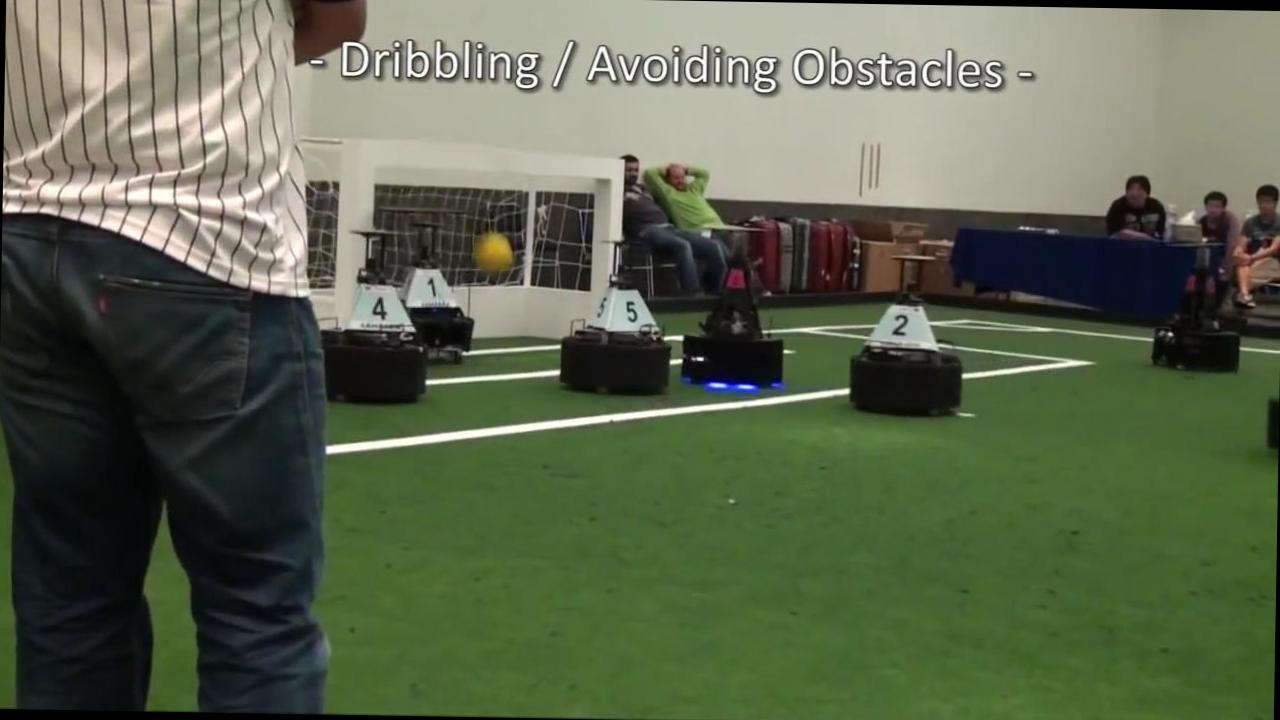ball: (474, 230, 514, 272)
robot: (849, 253, 962, 414), (323, 230, 428, 402), (560, 242, 670, 392), (682, 229, 783, 386), (1153, 245, 1240, 372), (401, 221, 473, 364)
